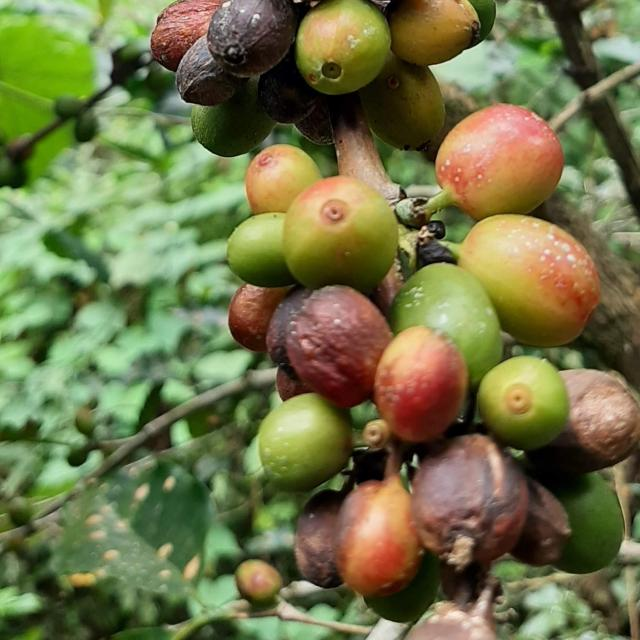green: (388, 263, 503, 387), (258, 394, 352, 492), (478, 356, 570, 451), (554, 473, 625, 574), (191, 76, 276, 156), (365, 554, 440, 624), (227, 212, 296, 287)
red: (413, 435, 529, 571), (286, 286, 393, 408), (531, 370, 640, 474), (258, 48, 334, 144), (207, 0, 298, 76), (512, 478, 573, 567), (175, 35, 248, 105), (150, 0, 222, 70), (295, 491, 345, 589), (258, 47, 320, 123), (228, 284, 290, 353), (266, 288, 311, 379)
yellow: (459, 214, 602, 347), (436, 104, 565, 220), (283, 175, 398, 292), (374, 326, 469, 443), (337, 471, 422, 598), (295, 0, 392, 94), (359, 50, 446, 150), (389, 0, 481, 65), (245, 144, 321, 214)
